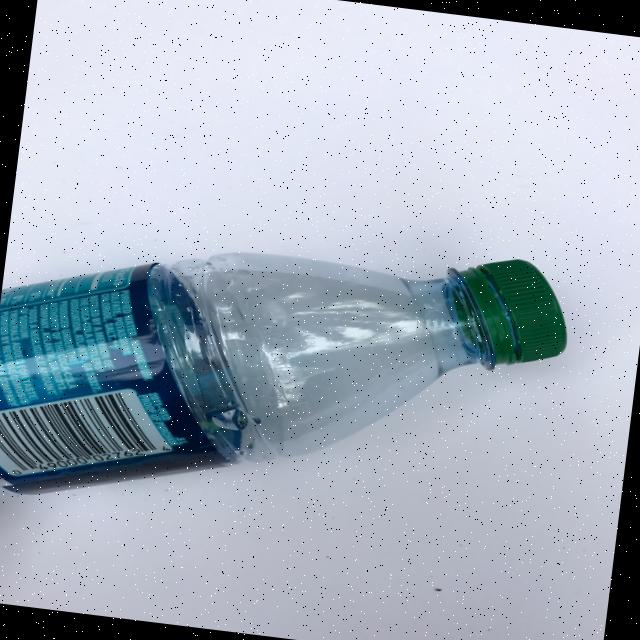plastic: (0, 194, 576, 571)
